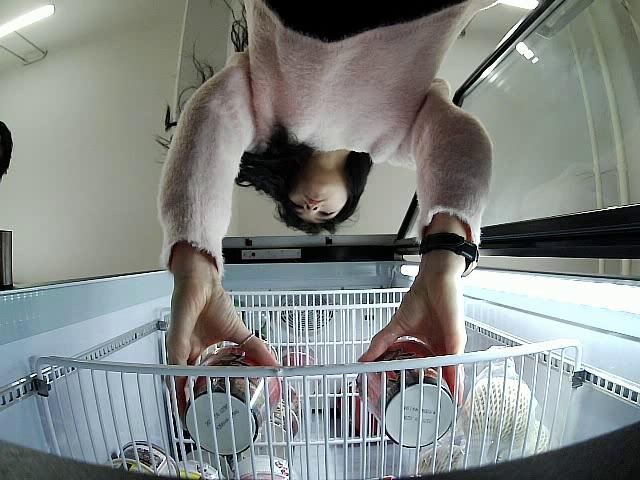00_hand: (360, 275, 468, 387), (166, 266, 281, 368)
02_shinRamen_S: (359, 338, 456, 447), (186, 348, 282, 456)
